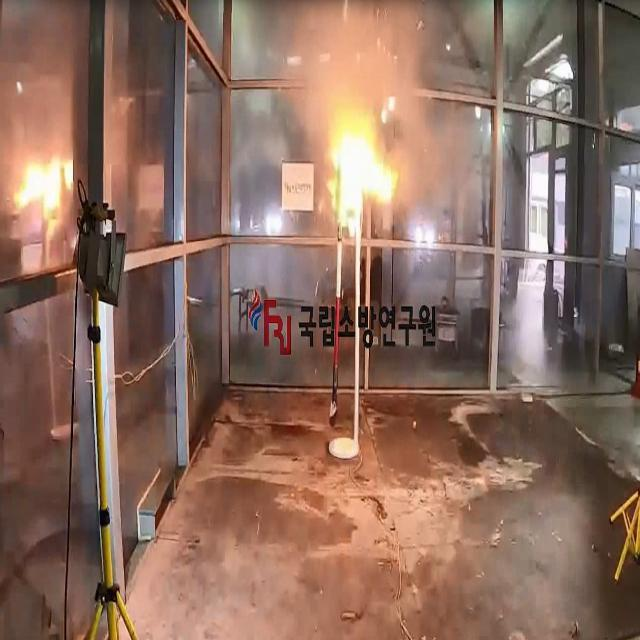Fire: (328, 113, 399, 235), (13, 158, 76, 218)
